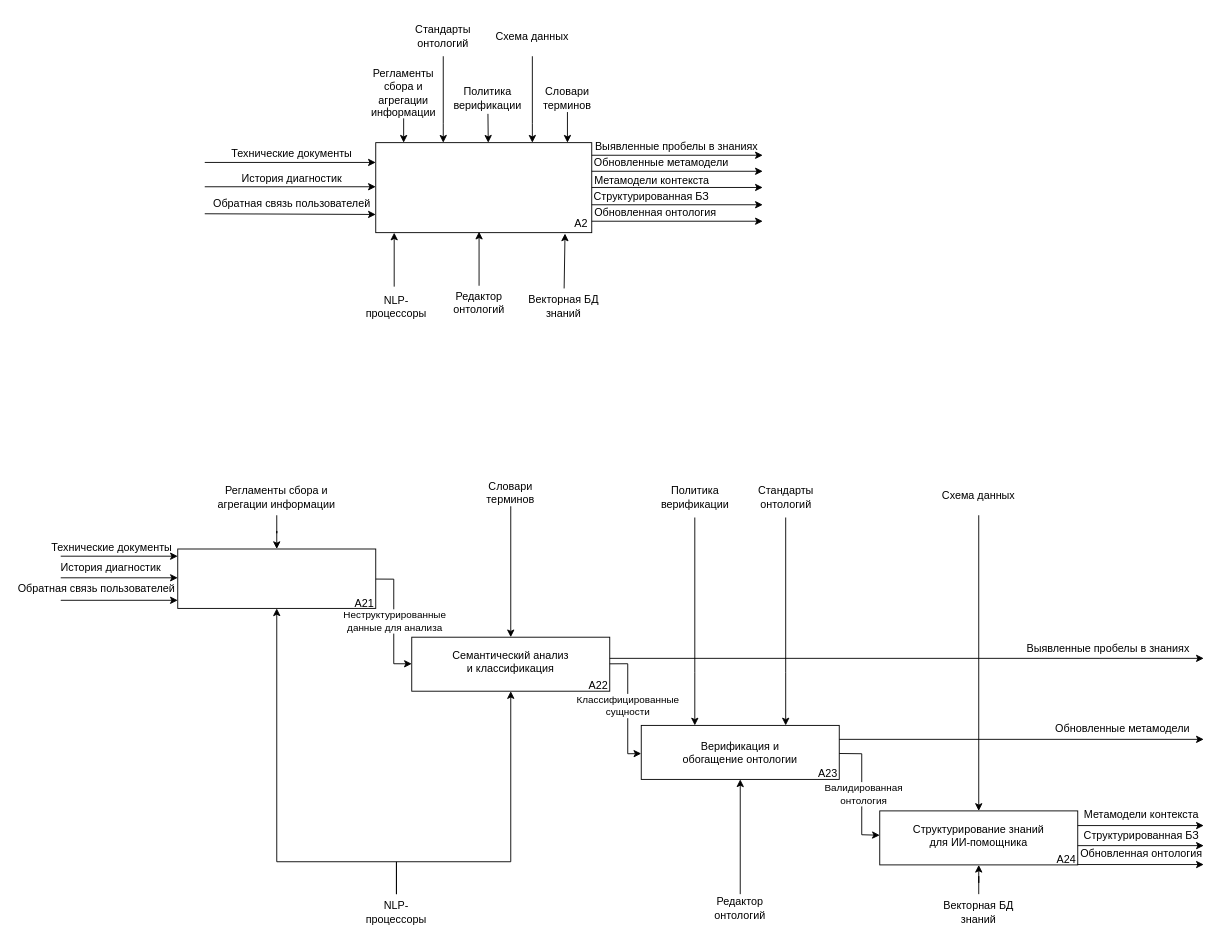
Some shapes in this 1227 by 945 pixel diagram are drawn without their labels. Here are the shapes that lost their labels. From the top down, the box of each, then its label:
(375, 142, 592, 233): Управлять структурой знаний и онтологией техники
(177, 548, 376, 608): Сбор и извлечение знаний из источников
